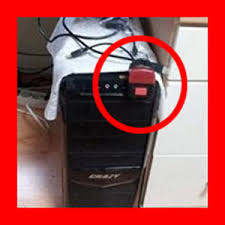bell: (128, 60, 159, 107)
